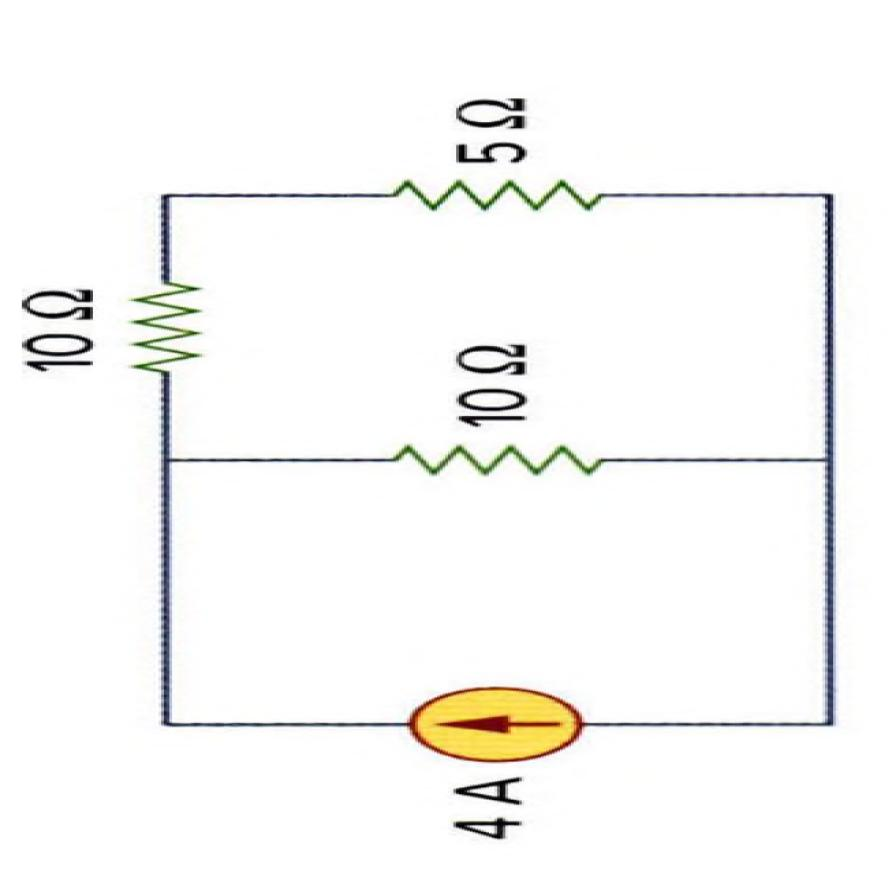I4: (407, 687, 582, 762)
